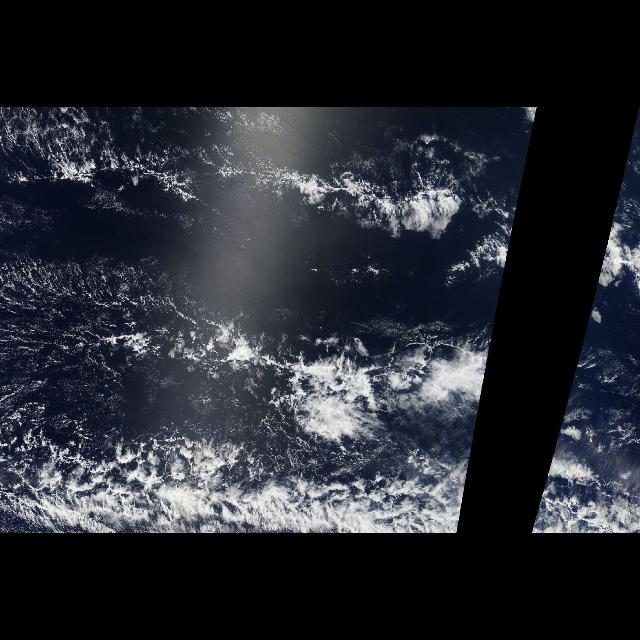Fish: (31, 135, 528, 533)
Gravel: (11, 264, 138, 426)
